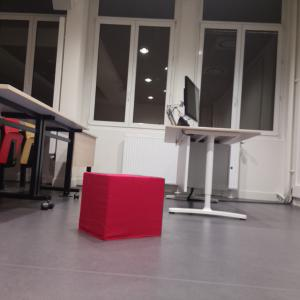medium: (76, 171, 169, 242)
